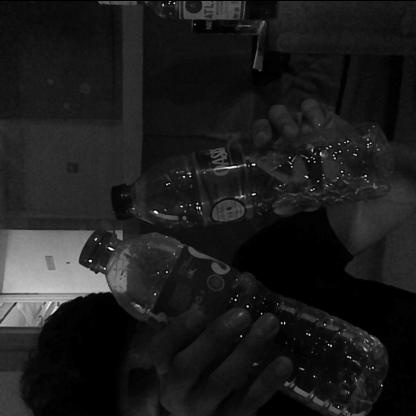plastic_bottles: (76, 225, 388, 416), (111, 114, 397, 230)
